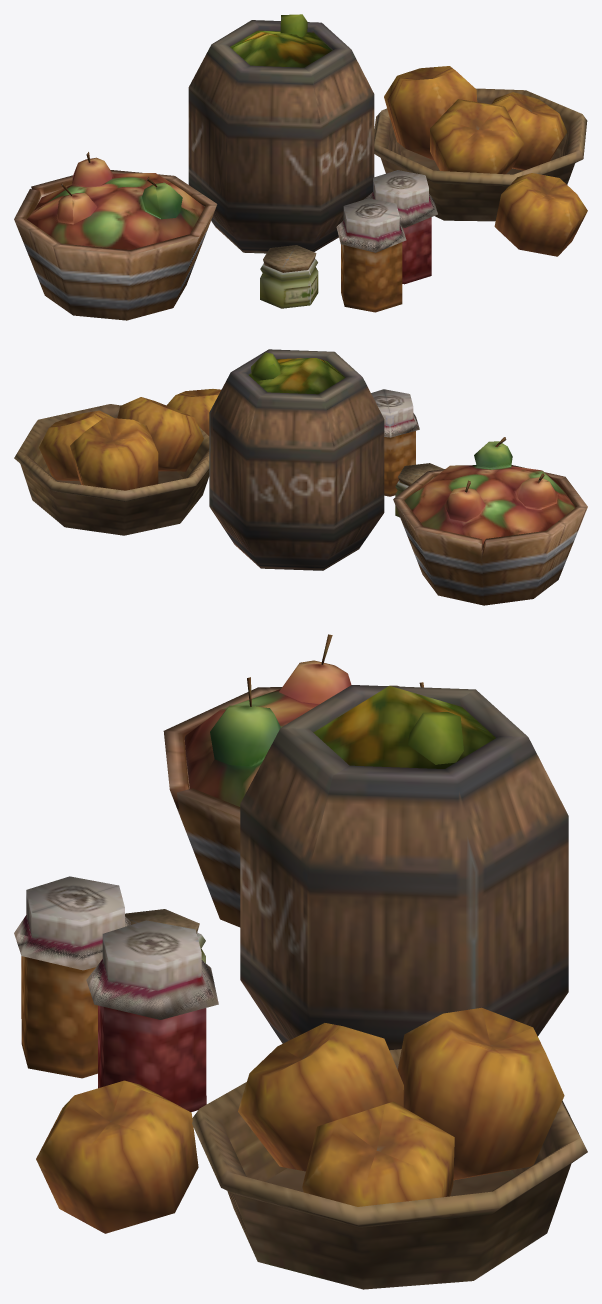
Rendered from Map_06_grocery06.FBX.
3 views of the same model, one above another, from view 1: azimuth 30°, elevation 25°; view 2: azimuth 150°, elevation 25°; view 3: azimuth 270°, elevation 25° (orthographic). The views are drawn at different scales.
Visible parts, largest first — view 1: Map_06_grocery06; view 2: Map_06_grocery06; view 3: Map_06_grocery06.
Part boxes in pixels (x1=…): Map_06_grocery06: x1=14, y1=14, x2=587, y2=320; Map_06_grocery06: x1=14, y1=349, x2=587, y2=605; Map_06_grocery06: x1=14, y1=634, x2=587, y2=1289.
Size of the model in its own units: 355 by 178 by 125.
